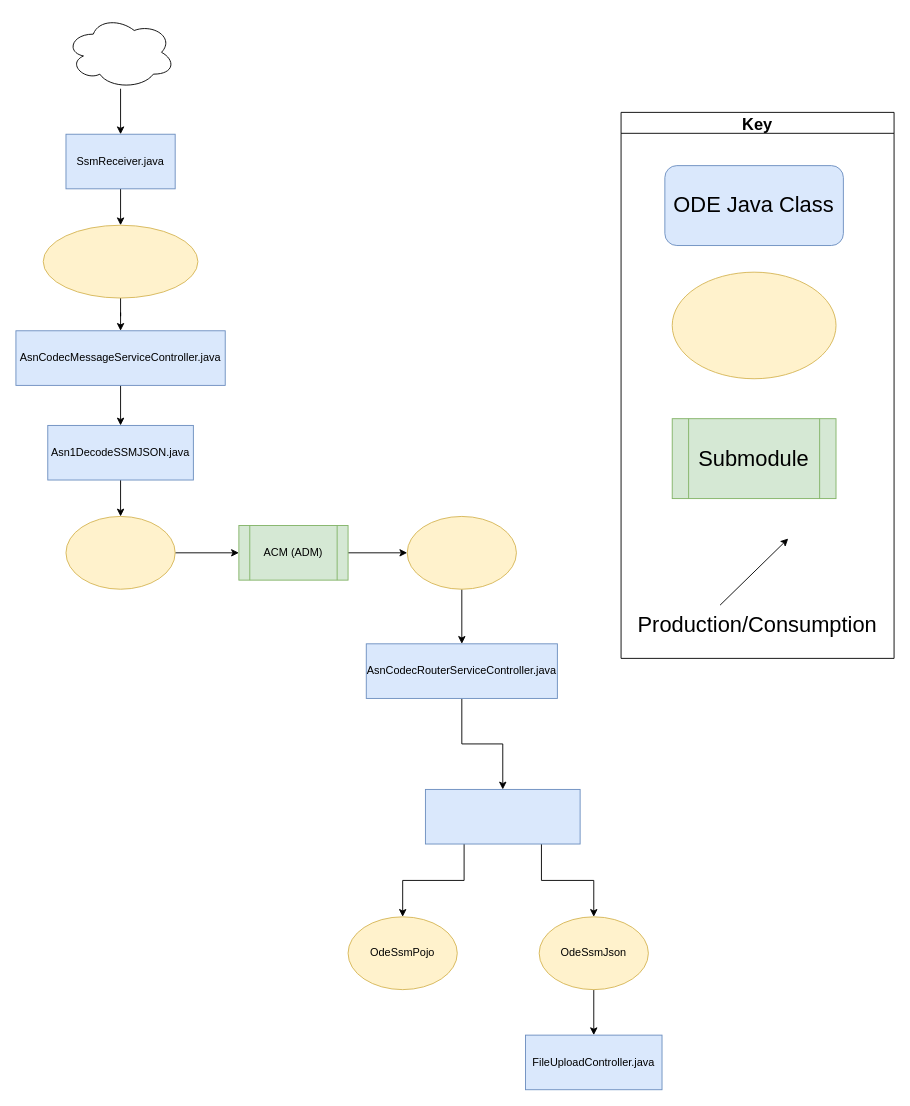
This 910x1106 diagram has some shape labels left out. The shapes that lost their labels are listed below. From the top down, each one's centre as x and y in pixels, then its label:
At [120,261]: "OdeRawEncodedSSMJson".
At [753,325]: "Kafka Topic".
At [120,552]: "Asn1DecoderInput".
At [461,552]: "Asn1DecoderOutput".
At [502,816]: "Asn1DecodedDataRouter.java".
